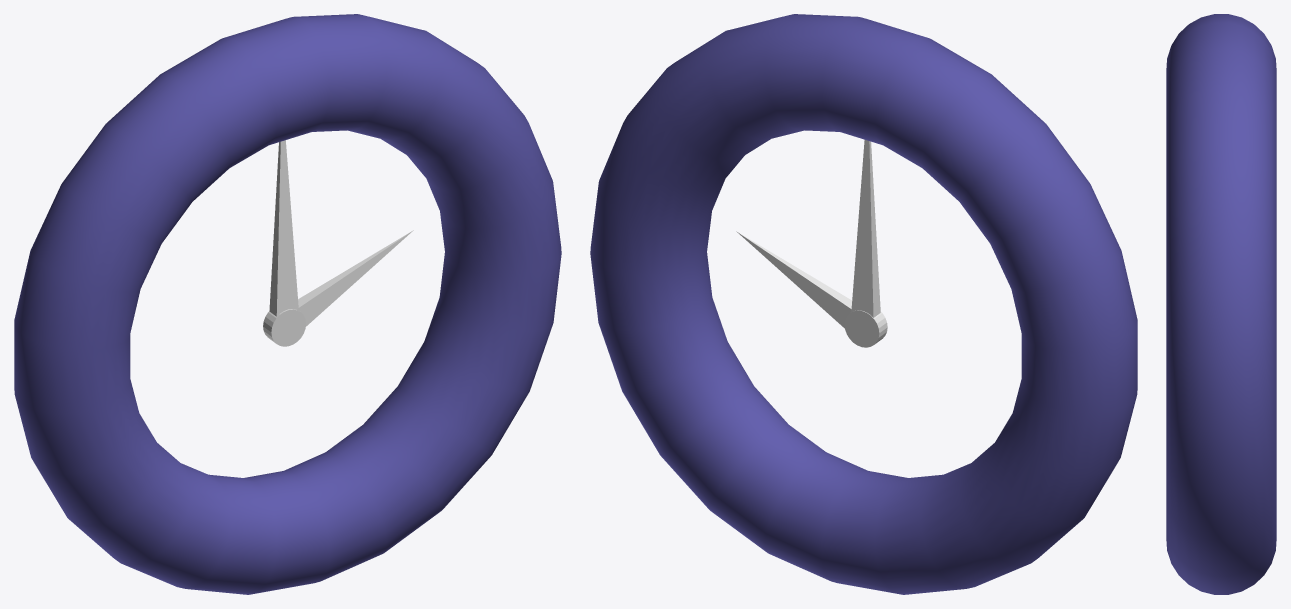
Rendered from GHARII.fbx.
The picture shows the model from 3 angles, left to right: view 1: azimuth 30°, elevation 25°; view 2: azimuth 150°, elevation 25°; view 3: azimuth 270°, elevation 25°; orthographic projection. The views are drawn at different scales.
Parts seen in each view (by area): view 1: NEW_ERROR_FOUND1, WE; view 2: NEW_ERROR_FOUND1, WE; view 3: NEW_ERROR_FOUND1.
Part boxes in pixels (x1,y1,x2,y2): NEW_ERROR_FOUND1: [14, 14, 561, 594]; WE: [263, 140, 413, 346]; NEW_ERROR_FOUND1: [590, 14, 1137, 594]; WE: [736, 140, 887, 347]; NEW_ERROR_FOUND1: [1166, 14, 1276, 594].
Size of the model in its own units: 0.1154 by 0.1156 by 0.022.
